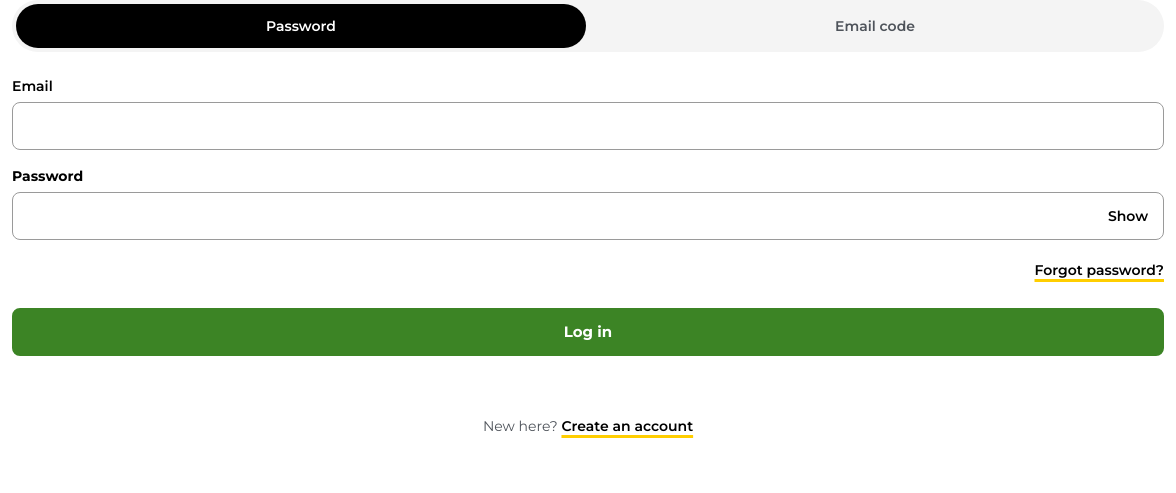
Scenario: login form fields › shows one generic, actionable alert for wrong credentials
The width and height of the screenshot is (1176, 493).
Type "a@b.co" into the field labelled "Email" at [588, 126], box [12,102,1164,150]
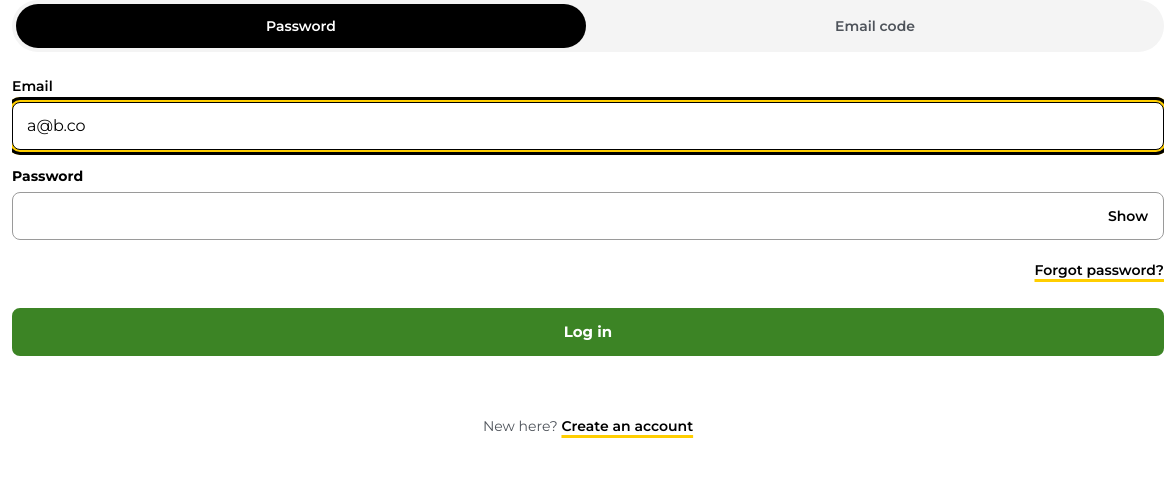
Type "wrong-password" into the password field labelled "Password" at [588, 216], box [12,192,1164,240]
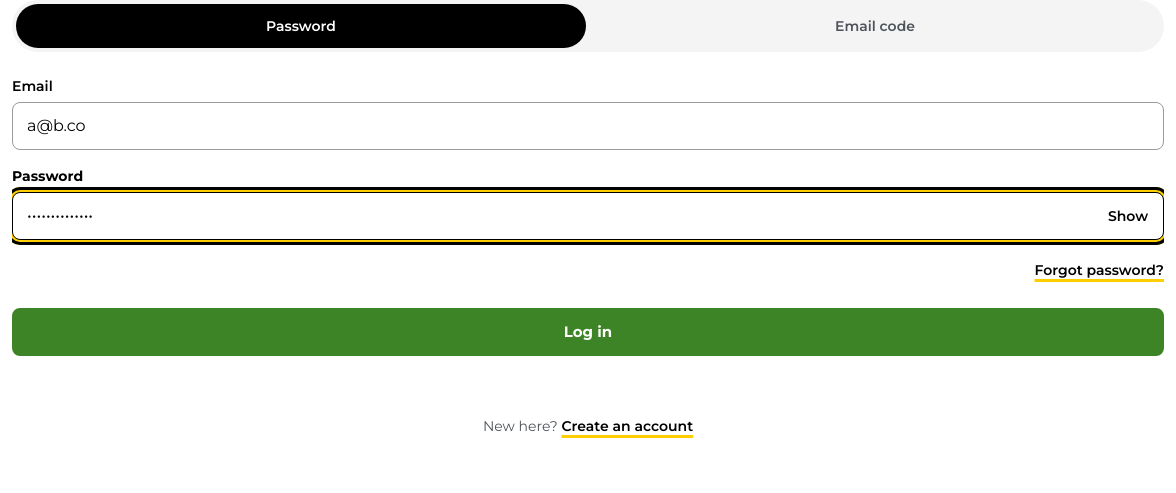
Click the button "Log in" at [588, 332], box [12,308,1164,356]
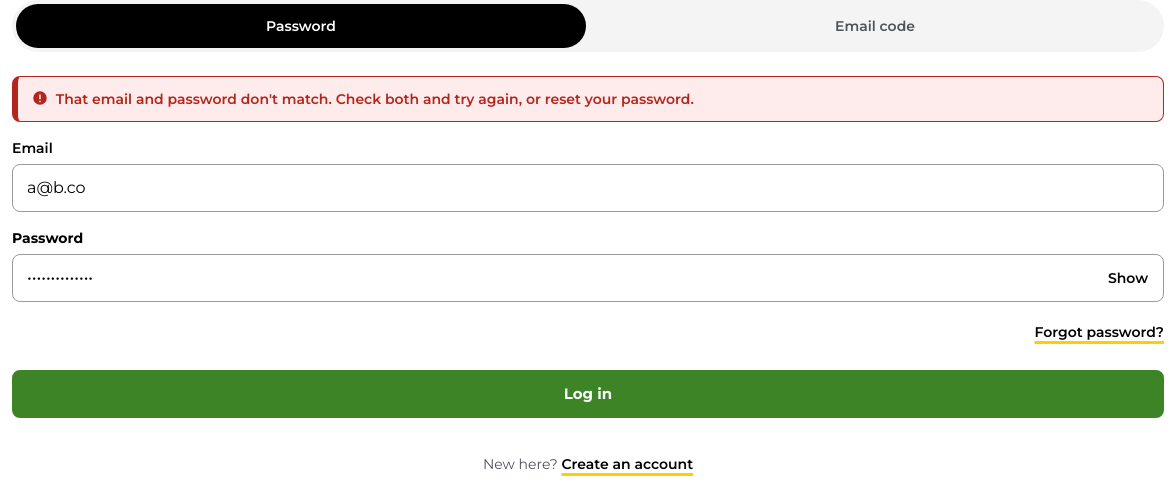
Expected: the message shows "don't match", [56,90,694,108]
Expected: the message shows "reset your password", [56,90,694,108]
